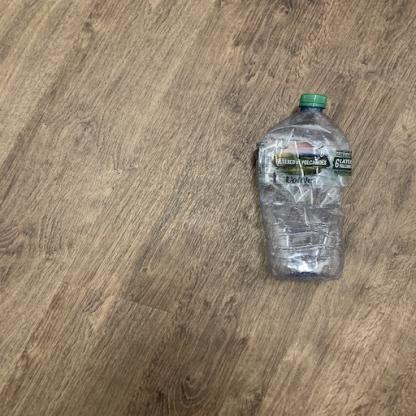trash: (256, 90, 356, 284)
